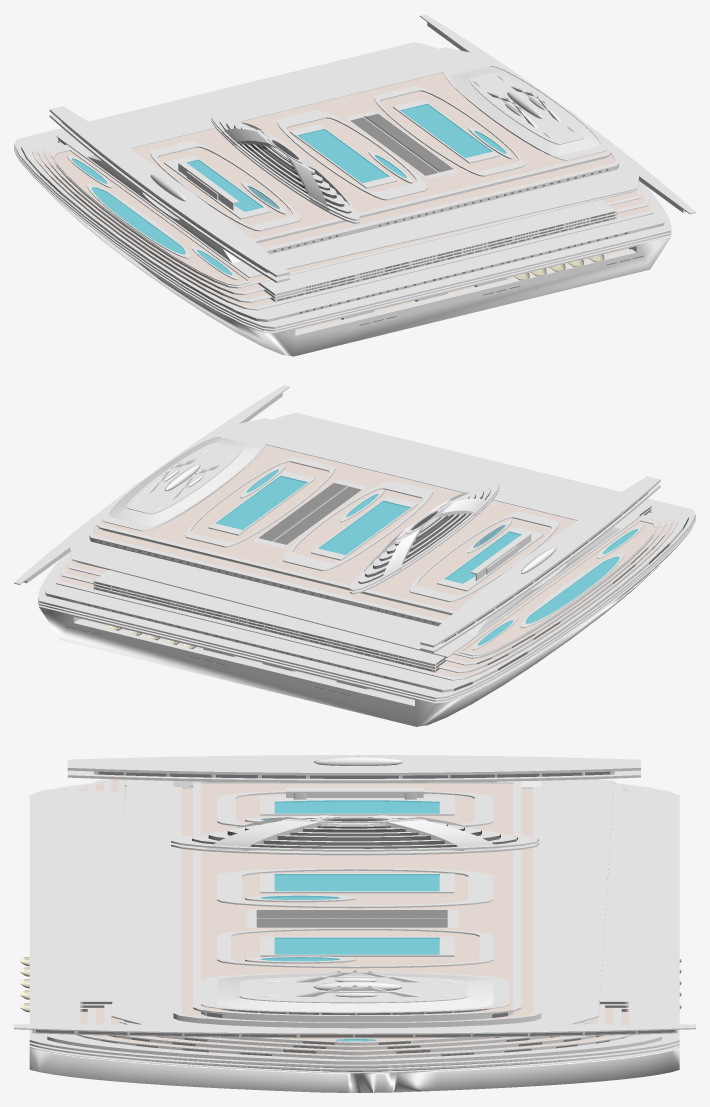
Rendered from ship-cruise.glb.
3 renders of one model, top to bottom at view 1: azimuth 30°, elevation 25°; view 2: azimuth 150°, elevation 25°; view 3: azimuth 270°, elevation 25°, orthographic. The views are drawn at different scales.
Visible parts, largest first — view 1: Object_3, Object_9; view 2: Object_3, Object_9; view 3: Object_3, Object_9.
Part boxes in pixels (left/top/right/bottom): Object_3: left=14, top=14, right=695, bottom=356; Object_9: left=21, top=103, right=643, bottom=325; Object_3: left=14, top=385, right=695, bottom=726; Object_9: left=66, top=469, right=688, bottom=695; Object_3: left=14, top=755, right=695, bottom=1092; Object_9: left=36, top=771, right=675, bottom=1071.
Bounding box in the file's own units: 1 × 0.1705 × 1.
Materials: 4 (4 with a texture image).
